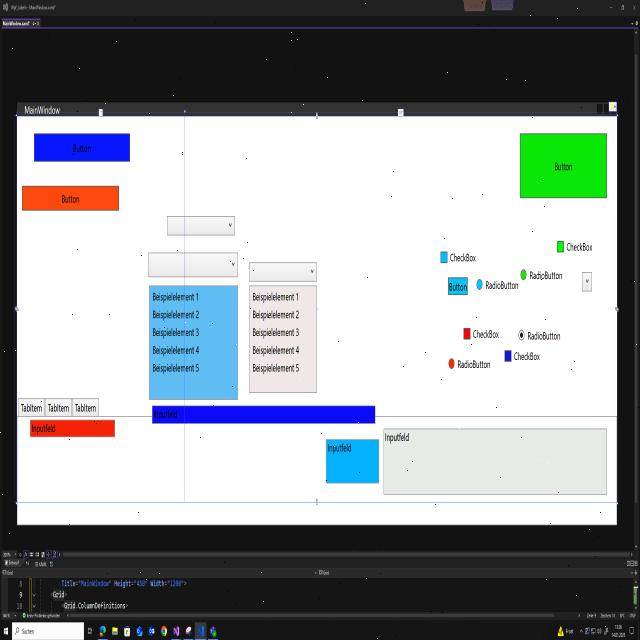button: (518, 130, 608, 200), (33, 128, 132, 167), (19, 180, 121, 216), (446, 274, 469, 298)
checkbox: (463, 326, 471, 341), (504, 349, 512, 364), (440, 251, 448, 264), (556, 240, 564, 253)
dropdownMenu: (147, 250, 239, 400), (248, 260, 318, 394), (166, 214, 236, 237), (581, 269, 593, 293)
input: (383, 426, 608, 496), (152, 404, 376, 425), (326, 438, 380, 485), (30, 418, 116, 438)
label: (529, 270, 563, 281), (457, 359, 491, 370), (485, 280, 519, 290), (527, 331, 561, 341), (566, 241, 593, 253), (473, 328, 500, 340), (449, 252, 476, 263), (514, 351, 541, 362)
menuItem: (152, 290, 200, 304), (152, 362, 199, 376), (152, 344, 201, 356), (152, 308, 200, 320), (152, 326, 200, 338), (252, 308, 300, 320), (252, 326, 300, 338), (252, 290, 299, 302), (252, 344, 299, 356), (252, 362, 300, 373)
radio: (448, 358, 455, 370), (476, 278, 483, 290), (520, 268, 527, 280), (518, 329, 525, 341)
tabControl: (16, 396, 46, 418), (44, 396, 74, 418), (70, 396, 100, 418)
